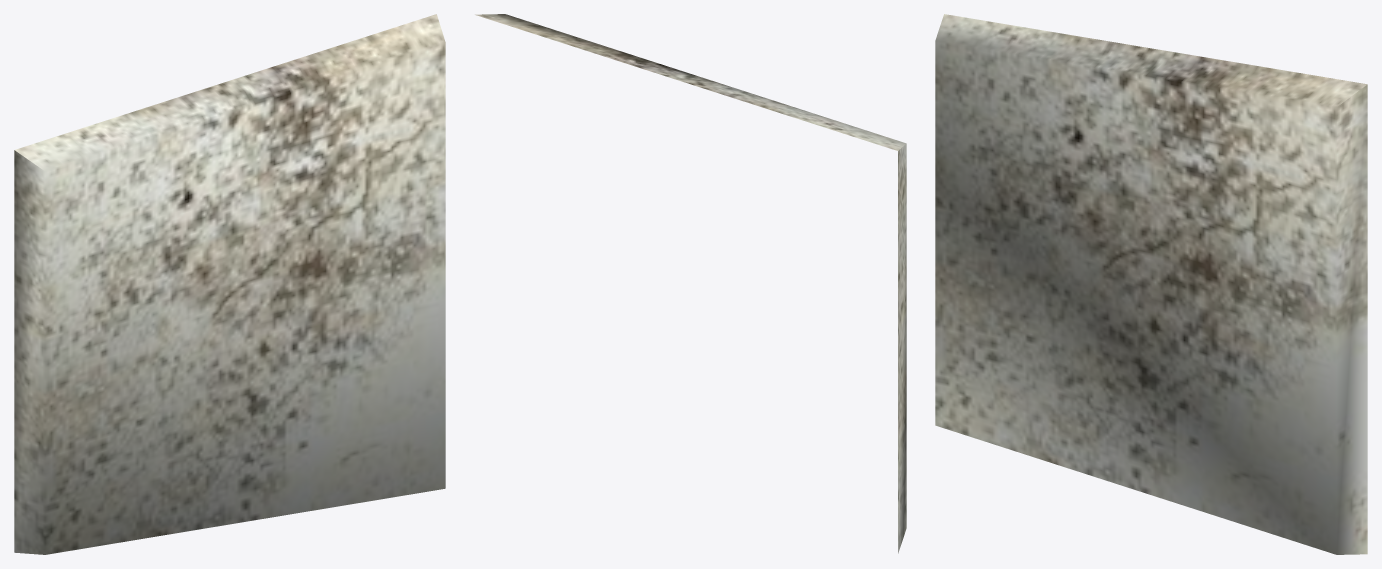
File: furniture_duhoc_chair_dirty2.glb
3 renders of one model, left to right at view 1: azimuth 30°, elevation 25°; view 2: azimuth 150°, elevation 25°; view 3: azimuth 330°, elevation 25°, orthographic.
Size of the model in its own units: 19.25 by 20.41 by 1.57.
Materials: 1 (1 with a texture image).
